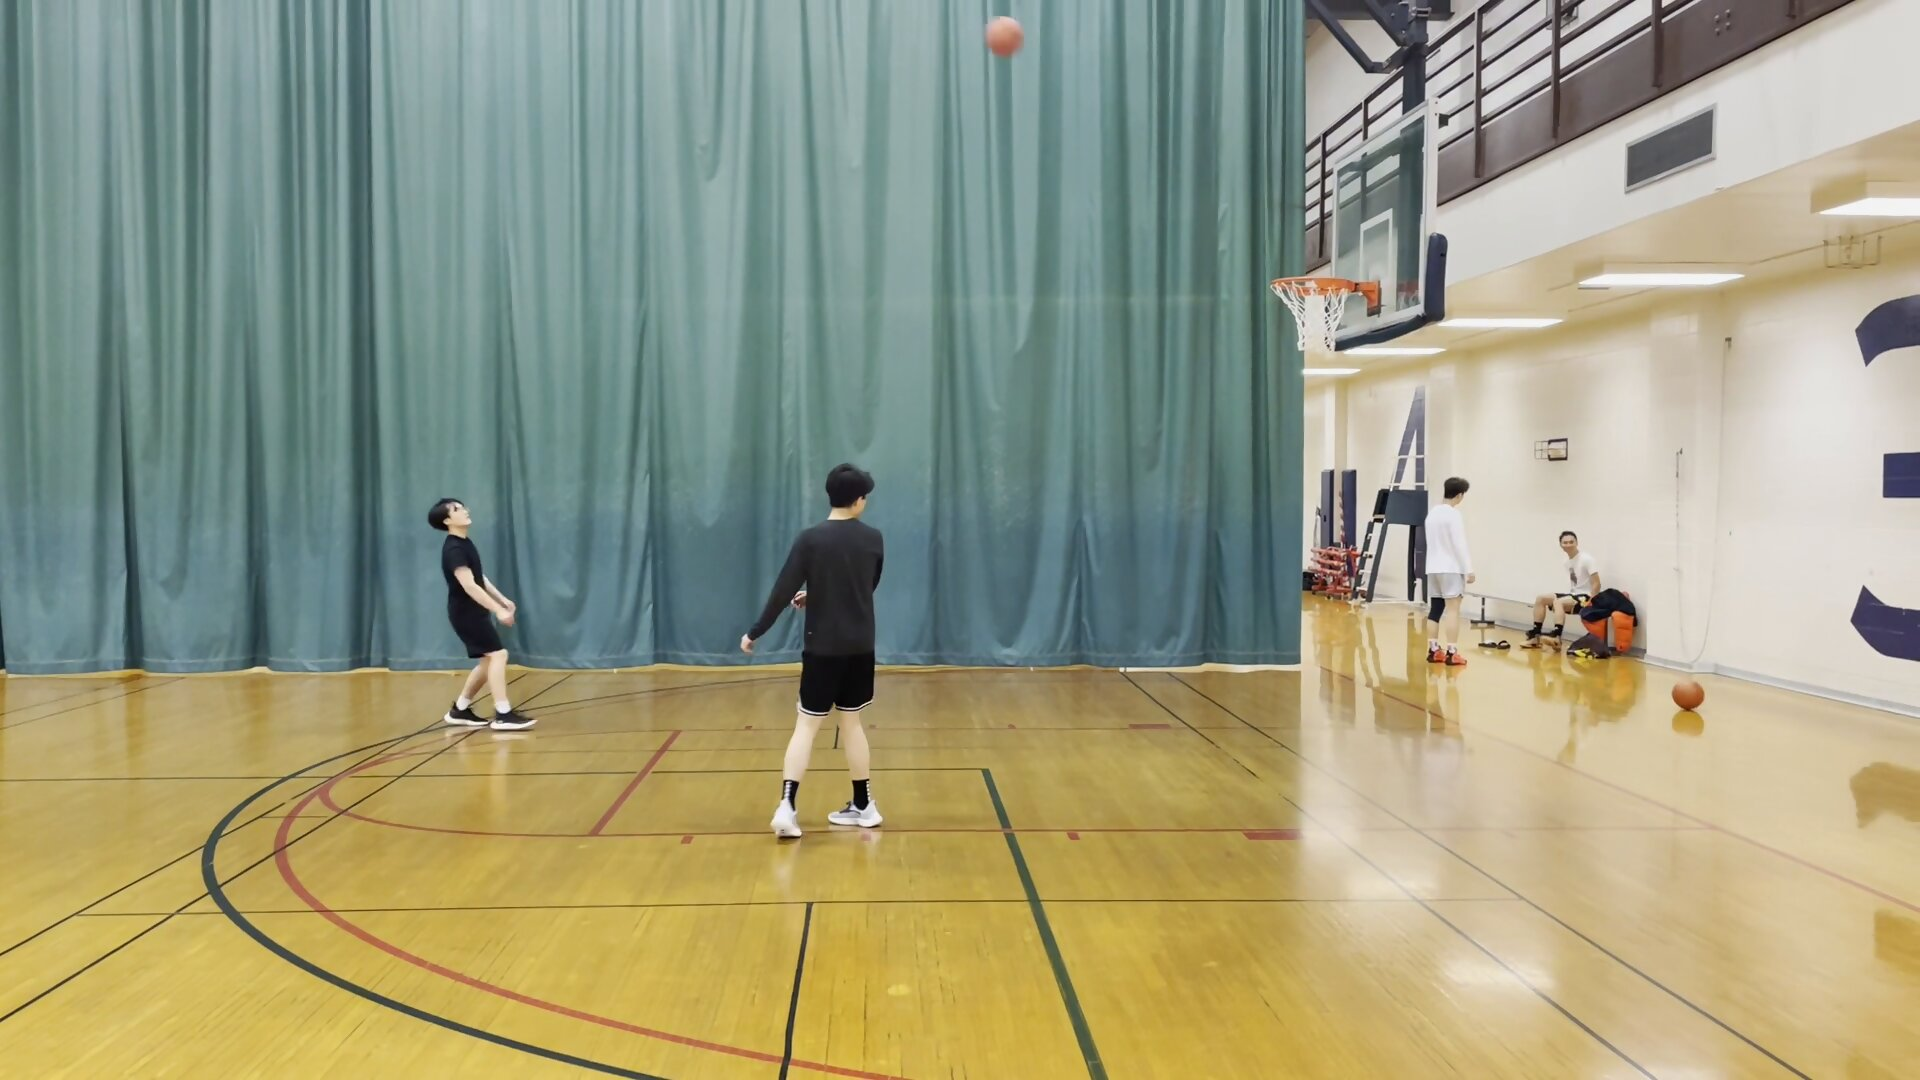ball: (984, 14, 1026, 63), (1672, 676, 1707, 711)
net: (1287, 324, 1345, 360)
player: (757, 463, 891, 843), (429, 496, 538, 734), (1422, 473, 1479, 668), (1520, 526, 1598, 654)
rim: (1269, 273, 1358, 301)
